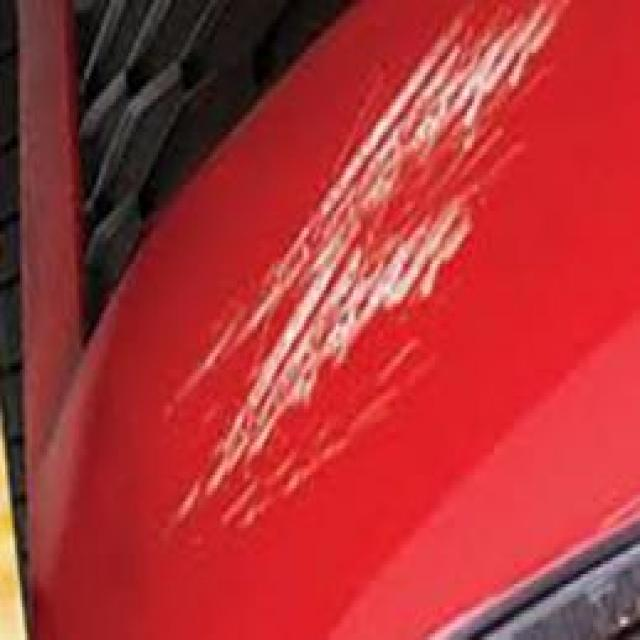scratch: (157, 11, 582, 542)
